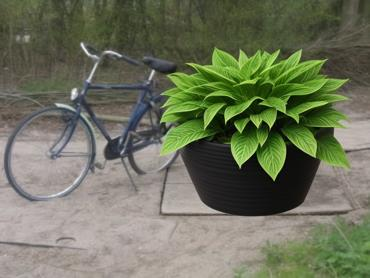bicycle: (4, 41, 192, 202)
pottedplant: (159, 48, 350, 215)
